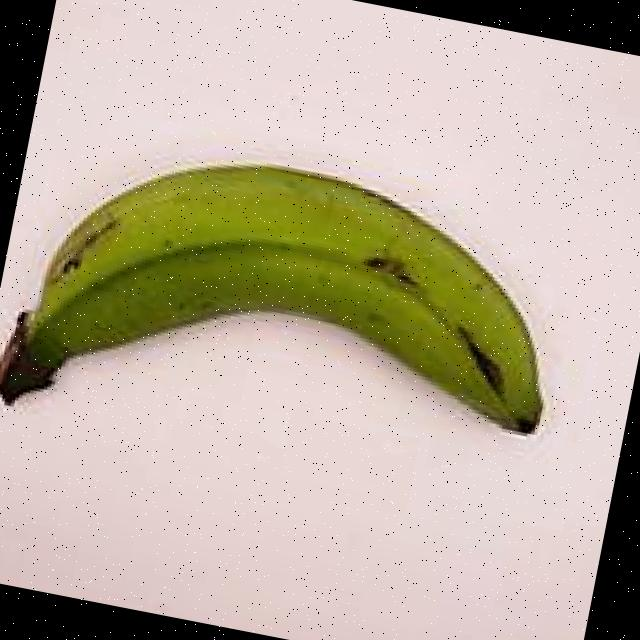Raw: (0, 85, 607, 558)
